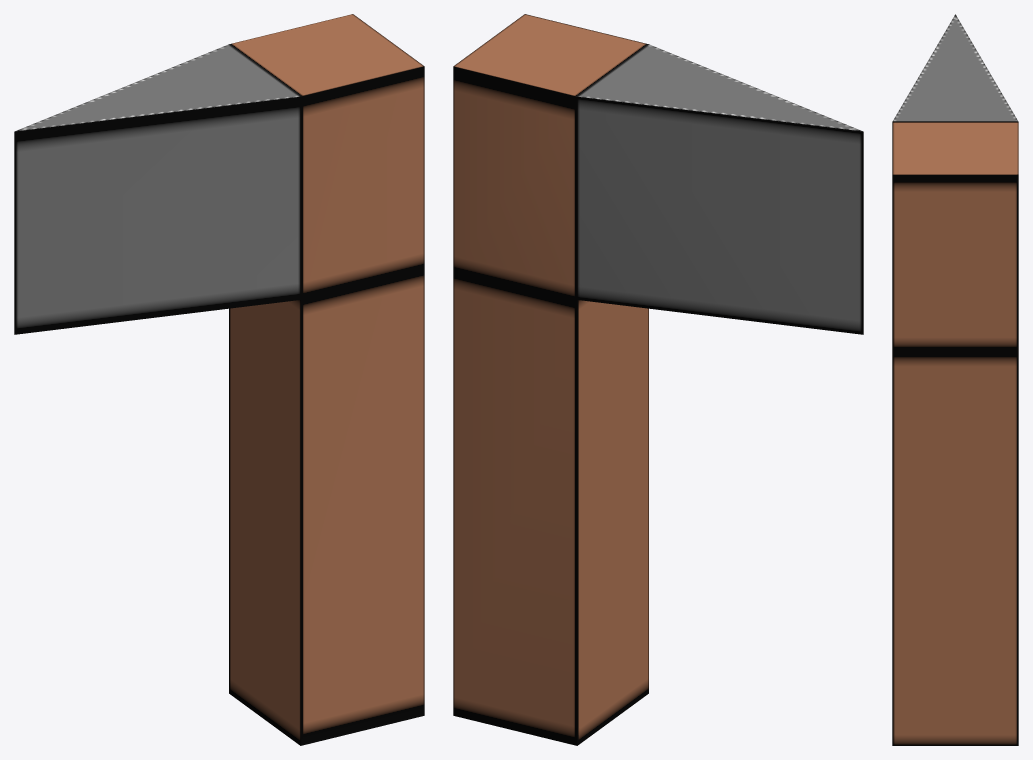
File: Axe.fbx
The picture shows the model from 3 angles, left to right: view 1: azimuth 30°, elevation 25°; view 2: azimuth 150°, elevation 25°; view 3: azimuth 270°, elevation 25°; orthographic projection. The views are drawn at different scales.
Visible parts, largest first — view 1: pCube1; view 2: pCube1; view 3: pCube1.
Boxes of the visible parts, x1,y1,x2,y2 form: pCube1: (14,14,424,745); pCube1: (453,14,863,745); pCube1: (892,14,1018,745).
Size of the model in its own units: 0.6039 by 1 by 0.2.
Materials: 1 (1 with a texture image).
